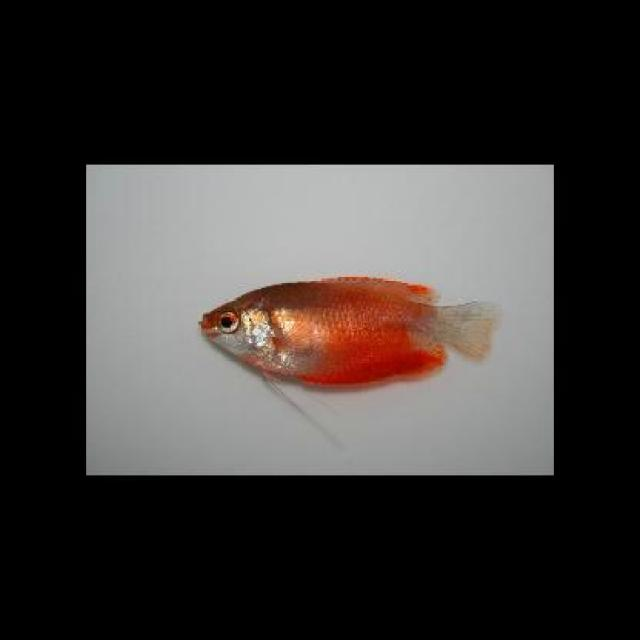Gourami: (198, 272, 497, 383)
